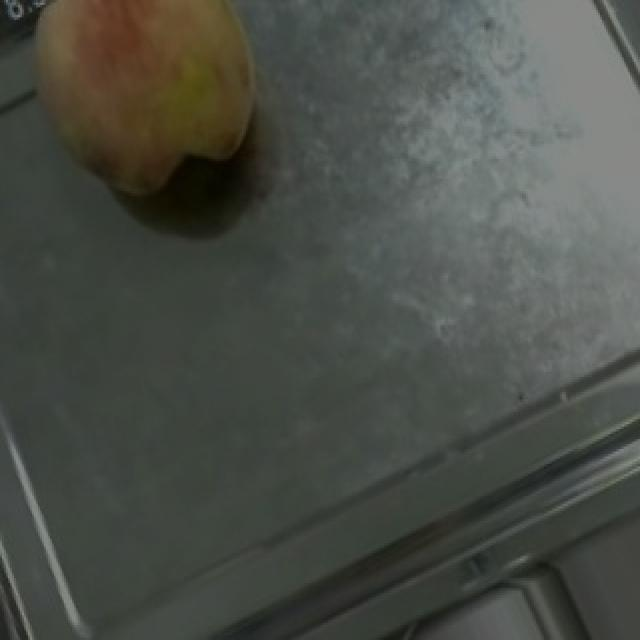Fruit: (0, 0, 290, 231)
